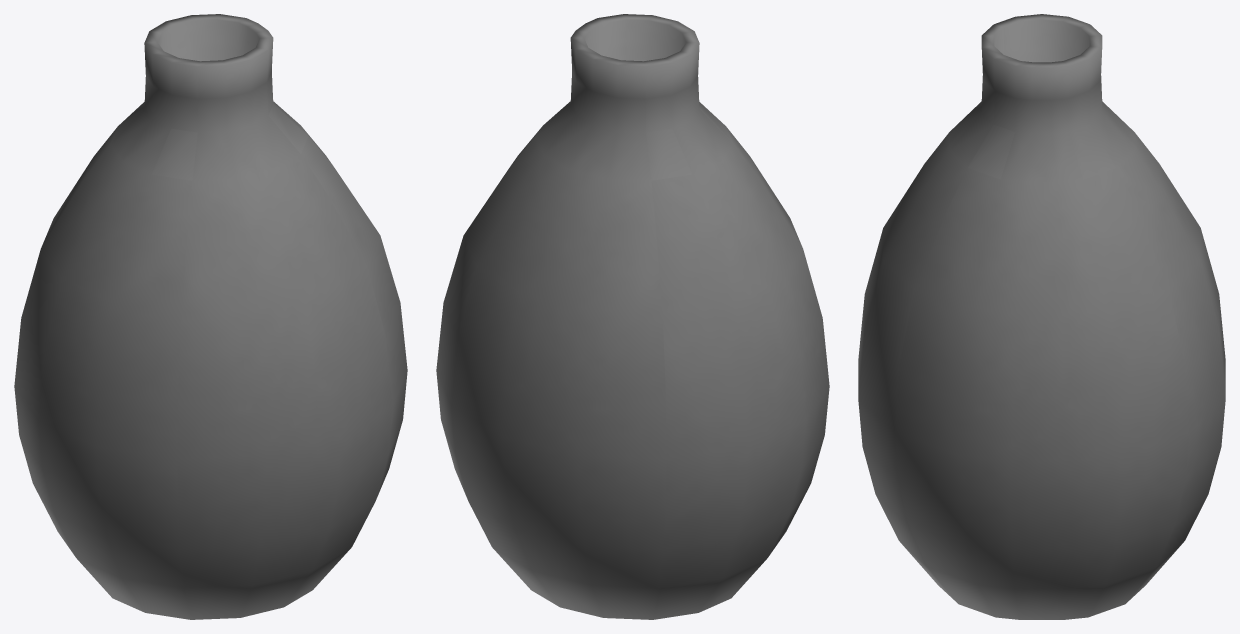
File: jarra_gris.glb
3 renders of one model, left to right at view 1: azimuth 30°, elevation 25°; view 2: azimuth 150°, elevation 25°; view 3: azimuth 270°, elevation 25°, orthographic.
Parts seen in each view (by area): view 1: jarra_gris_ref; view 2: jarra_gris_ref; view 3: jarra_gris_ref.
Part boxes in pixels (box(x1,y1,x2,y2)): jarra_gris_ref: box(14, 14, 407, 619); jarra_gris_ref: box(436, 14, 829, 619); jarra_gris_ref: box(858, 14, 1225, 619).
Size of the model in its own units: 0.1834 by 0.2763 by 0.1728.
Materials: 1 (1 with a texture image).
